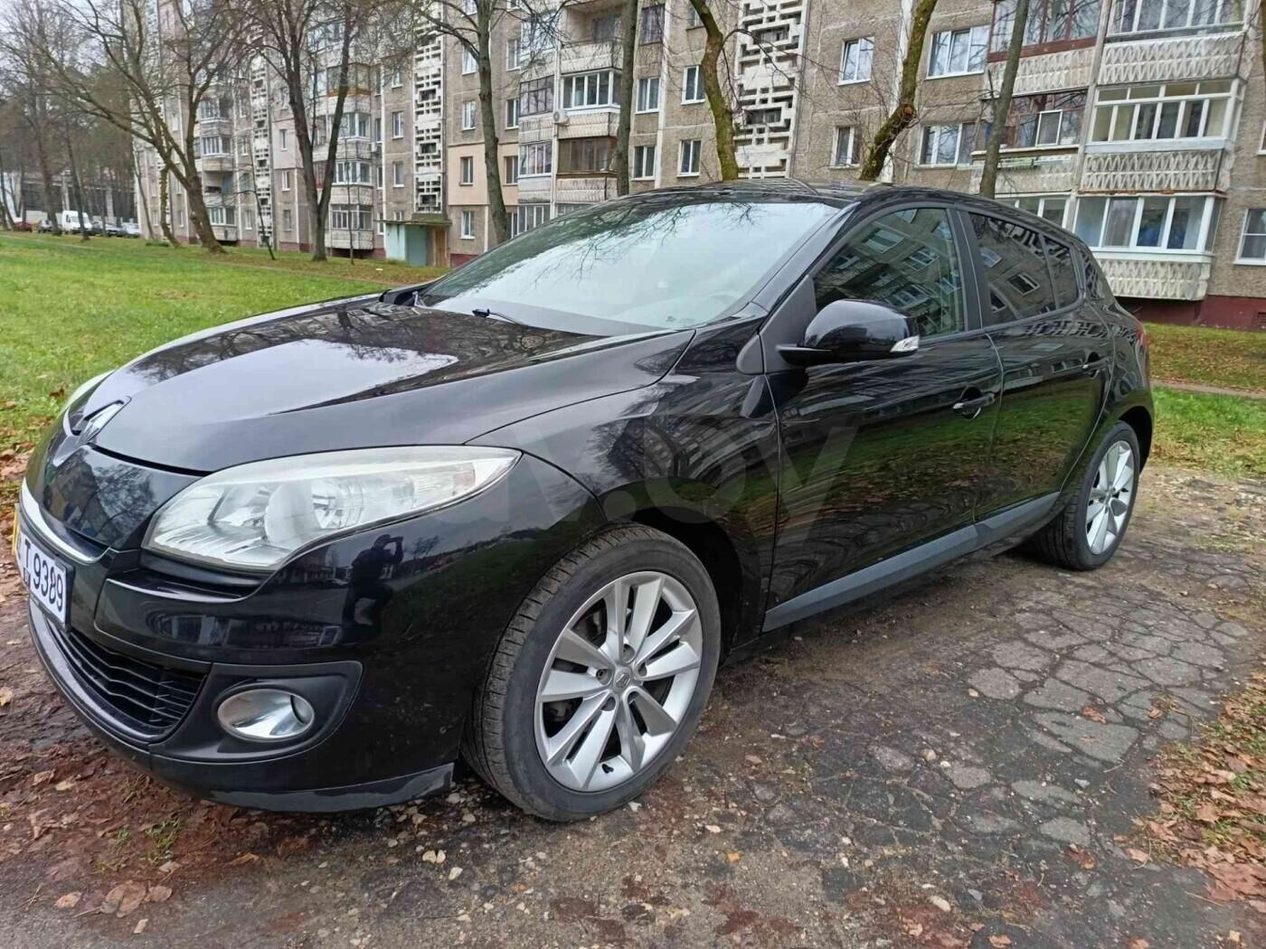Megane_2008-2014: (8, 168, 1163, 825)
